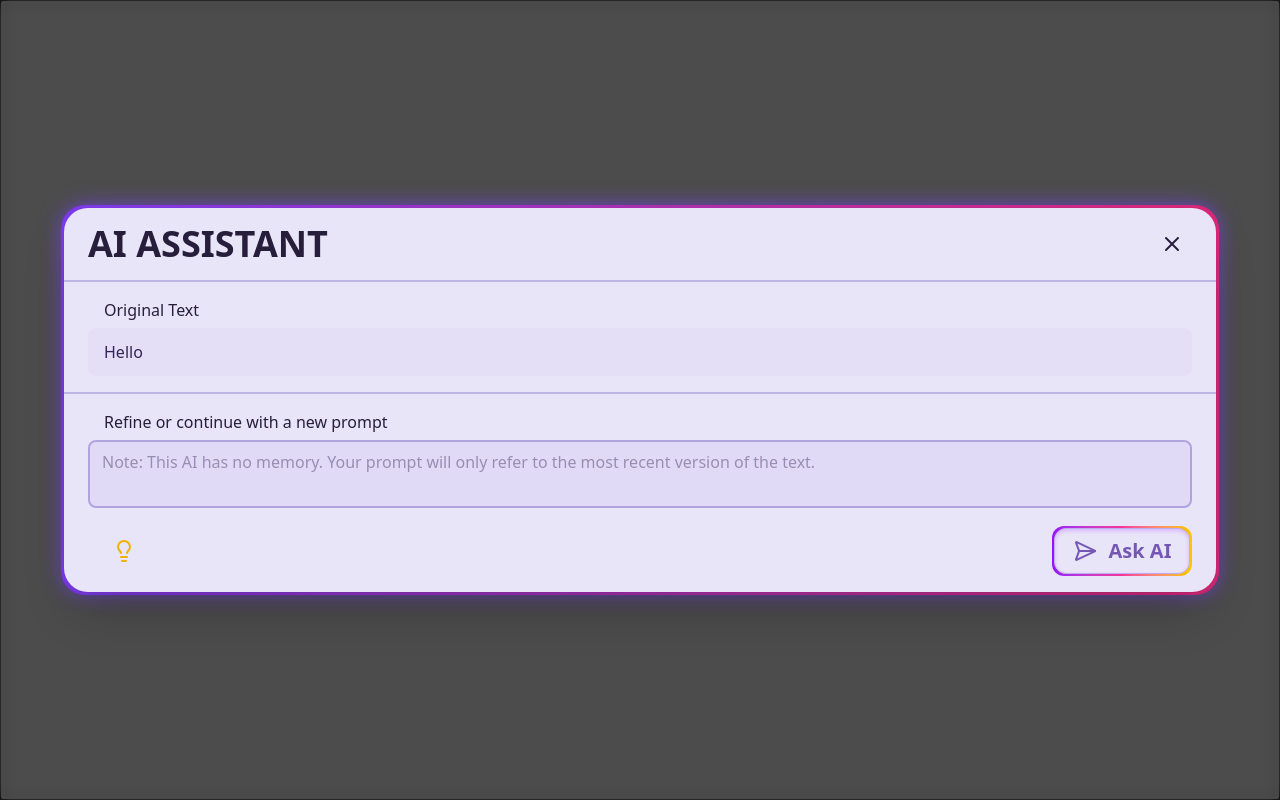
AIComponent Unit Tests › suggestion menu toggles and selects suggestion
What coordinates should you click on to do the following:
click the button titled "Show suggestions"
I would click on:
 (116, 551)
Its box is [88, 531, 144, 571].
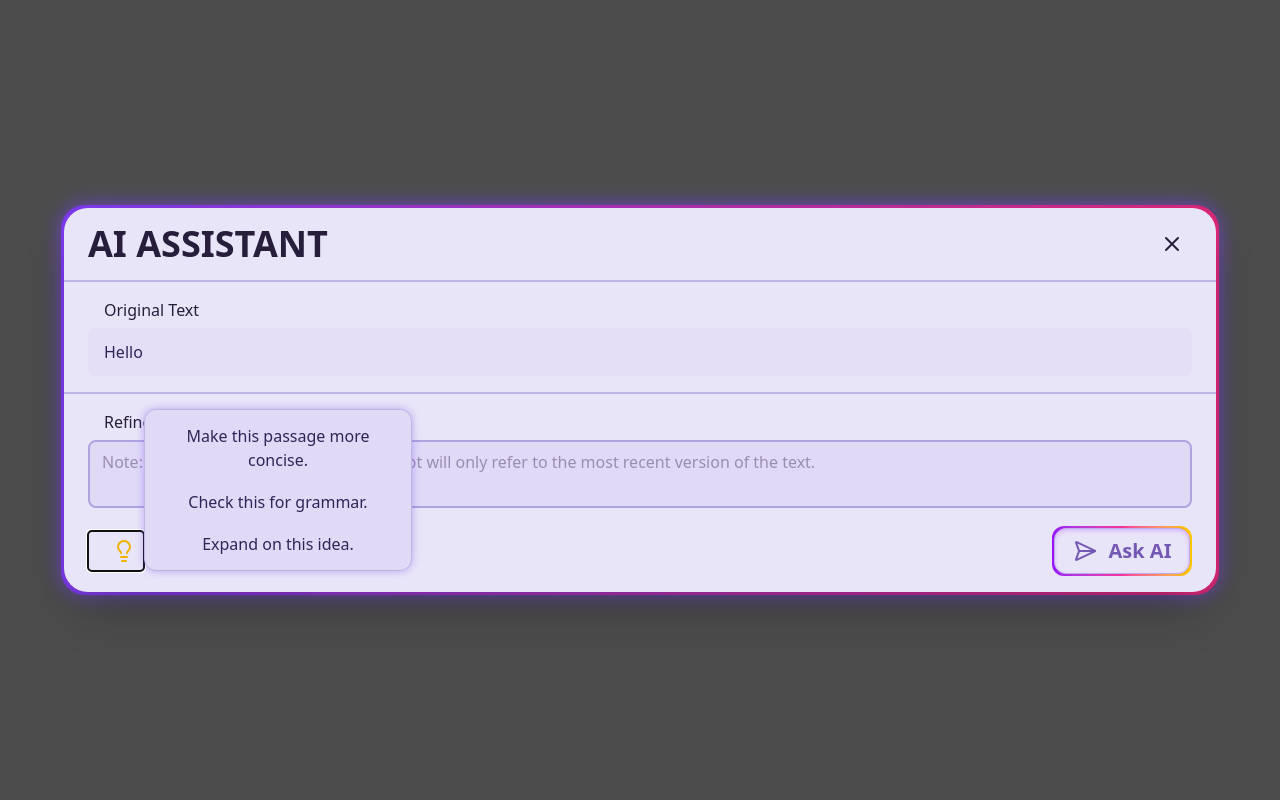
Expected: the button "Make this passage more concise." is shown
What coordinates should you click on to do the following:
click the button "Make this passage more concise."
I would click on:
 (278, 448)
Its box is [145, 416, 411, 480].
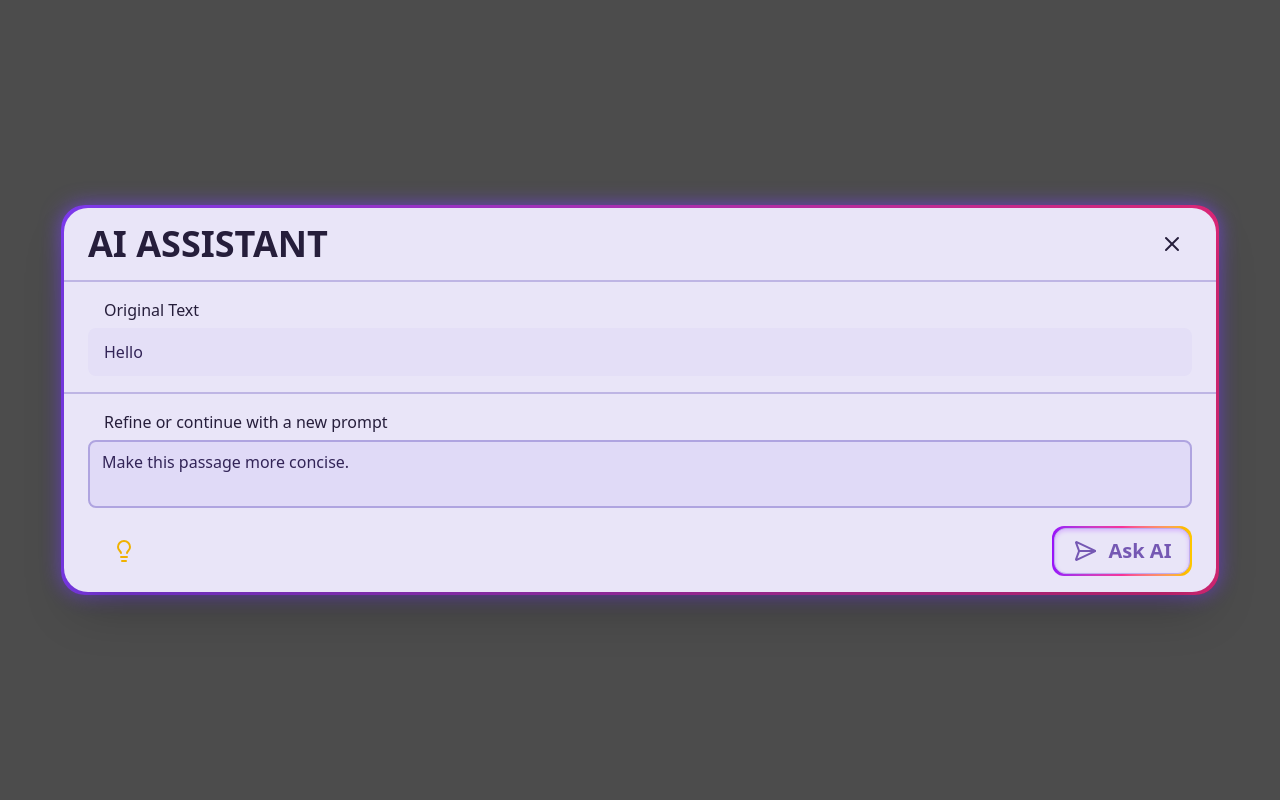
Expected: the element with test id "suggestions-menu" is gone
Expected: the text box with placeholder "Note: This AI has no memory" holds "Make this passage more concise.", [88, 440, 1192, 508]
